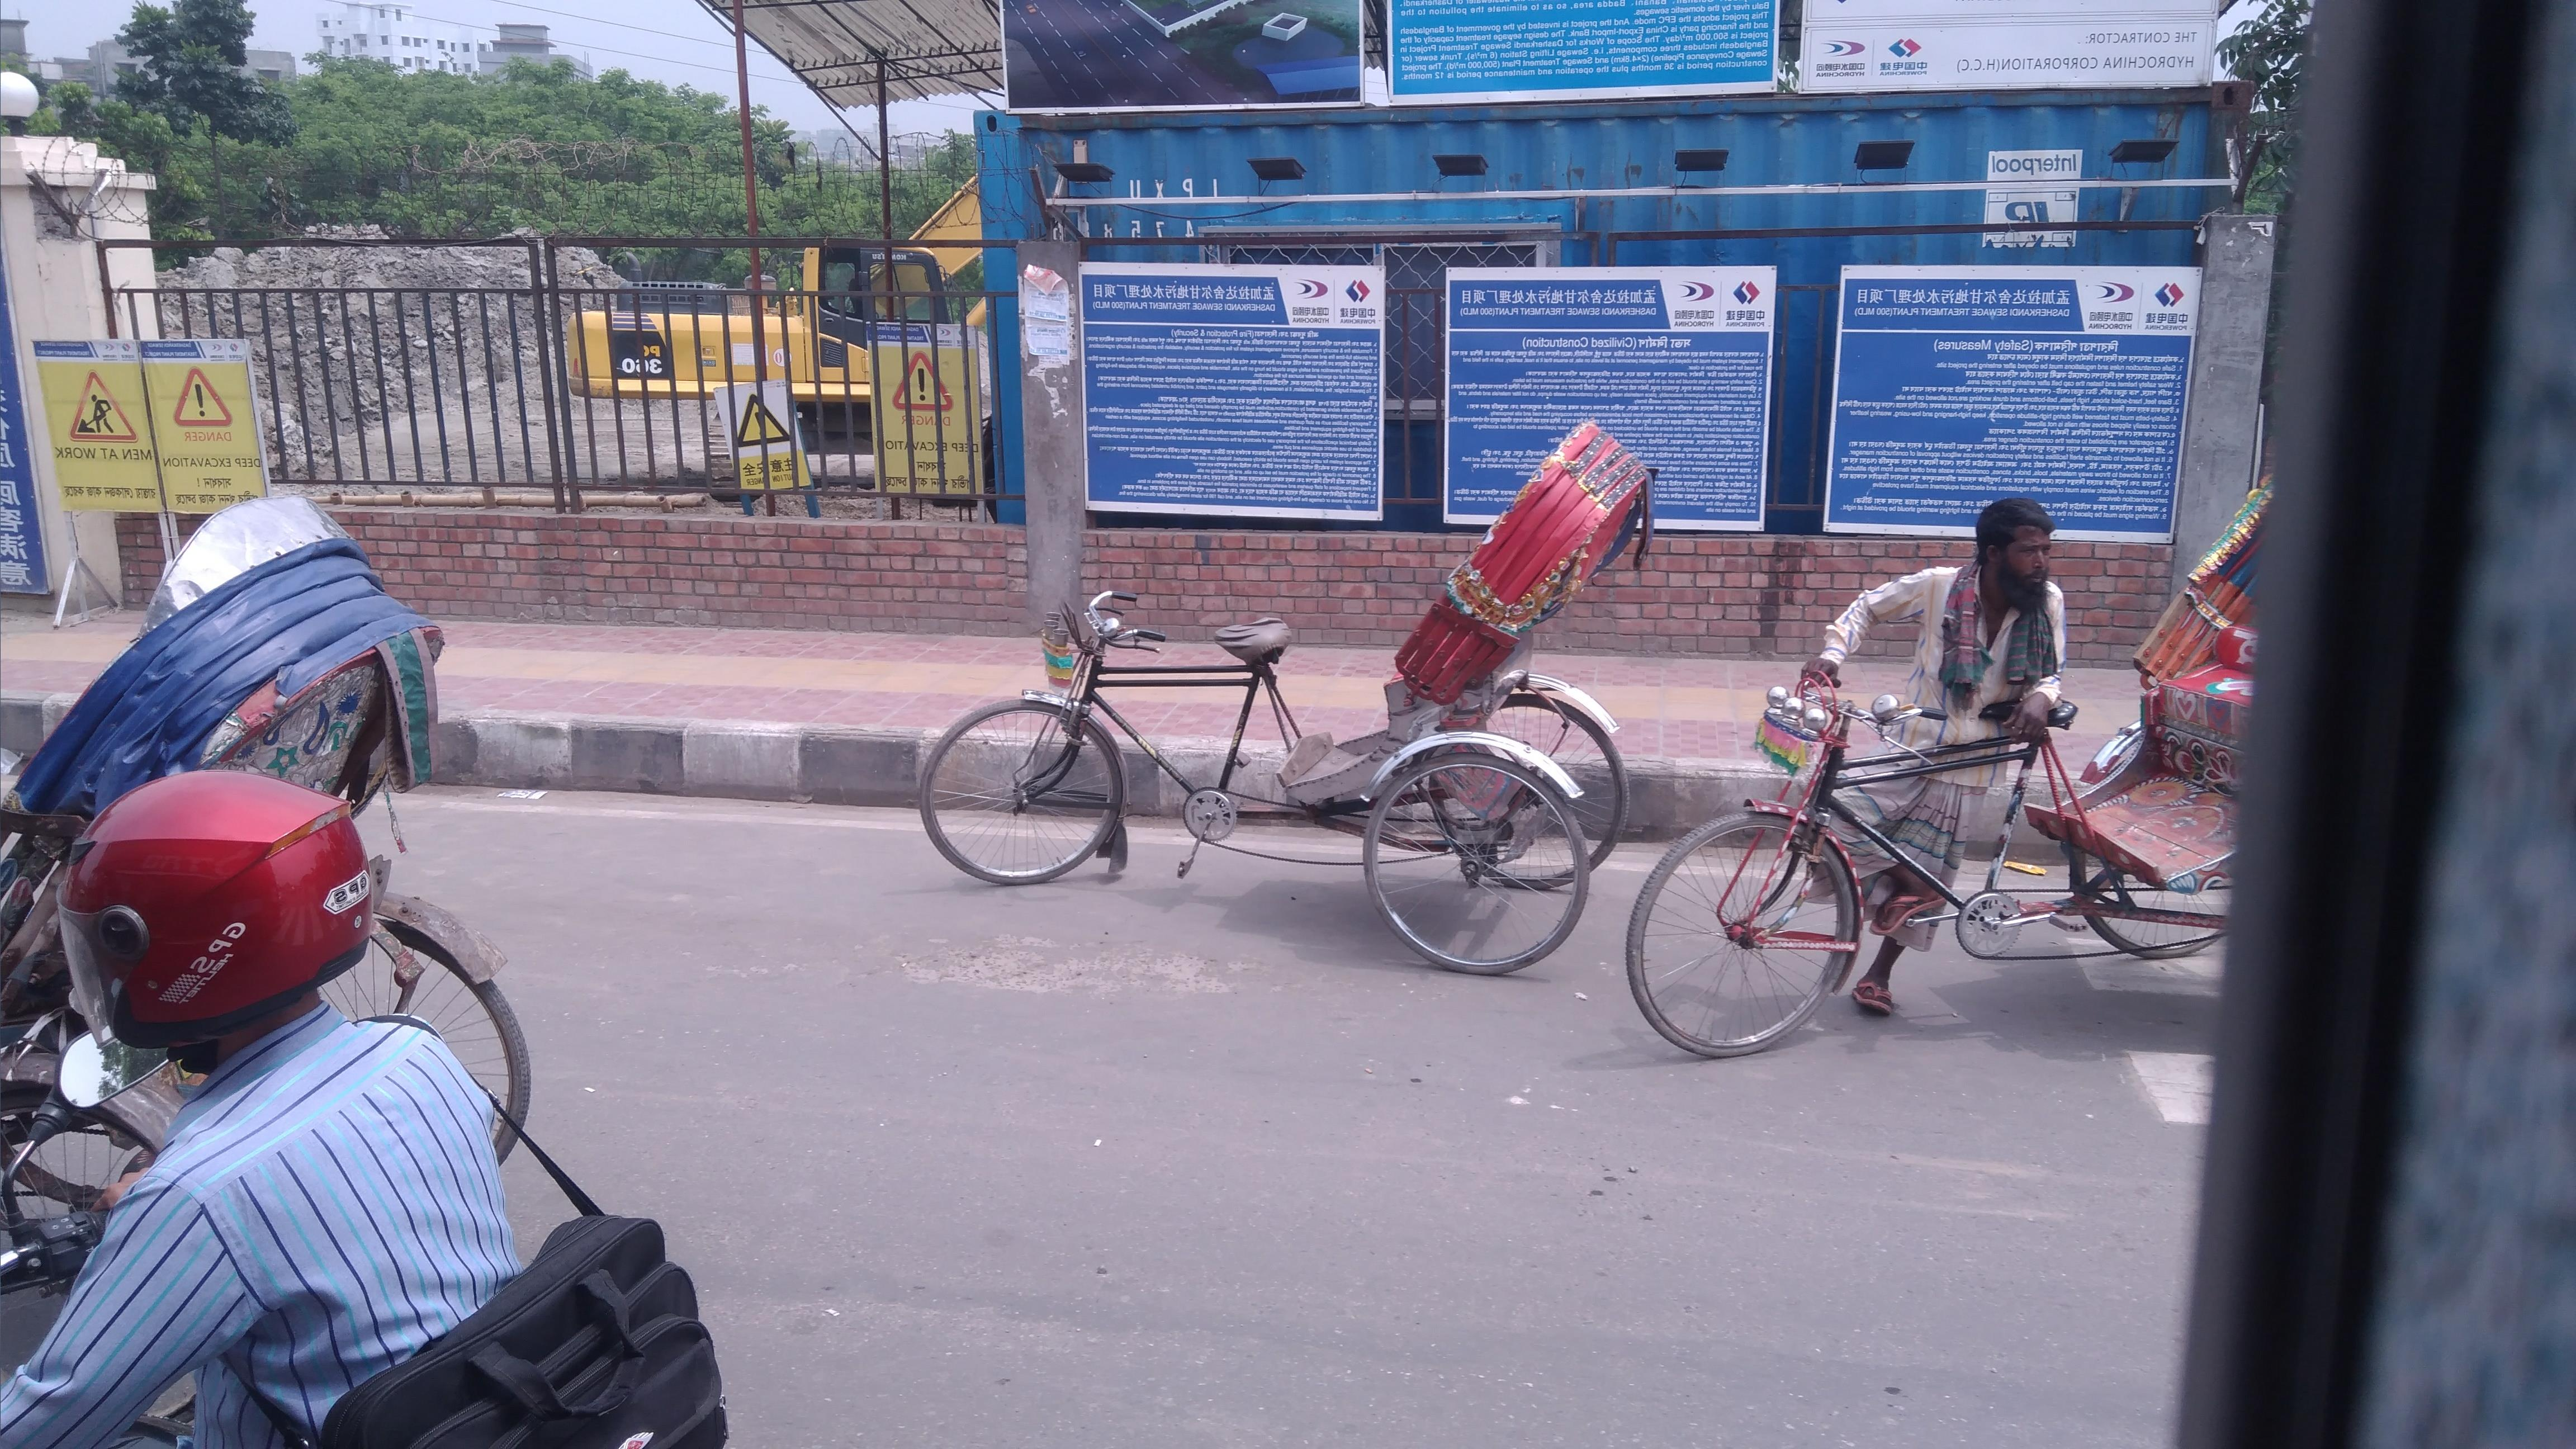Rickshaw: (904, 320, 1660, 1049), (1736, 315, 2243, 1125), (18, 488, 456, 1012)
